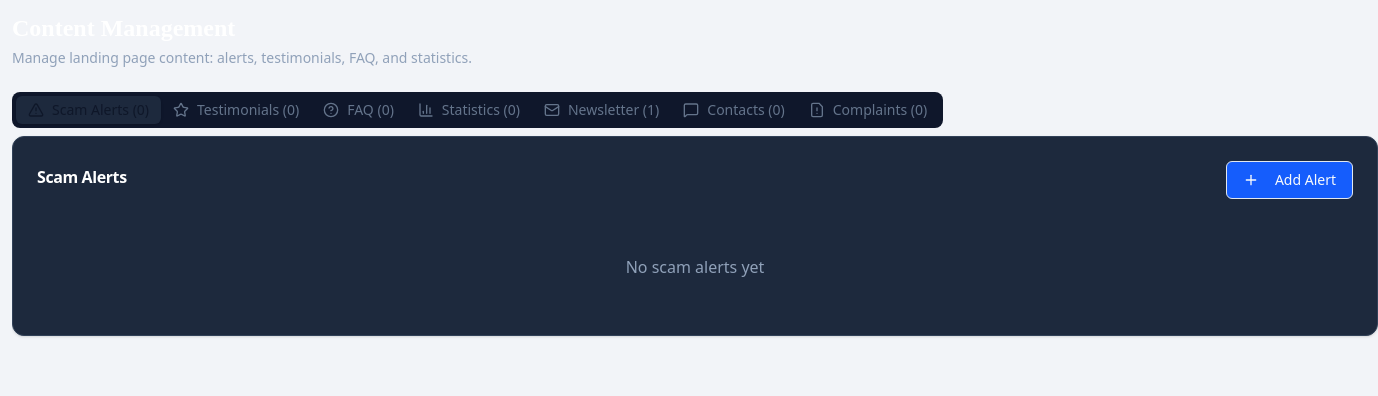
Scenario: ContentManagement — Export CSV button › button is visible when subscribers exist
The image size is (1378, 396).
Click the tab with test id "content-tab-newsletter": (602, 110) [532,96,671,124]
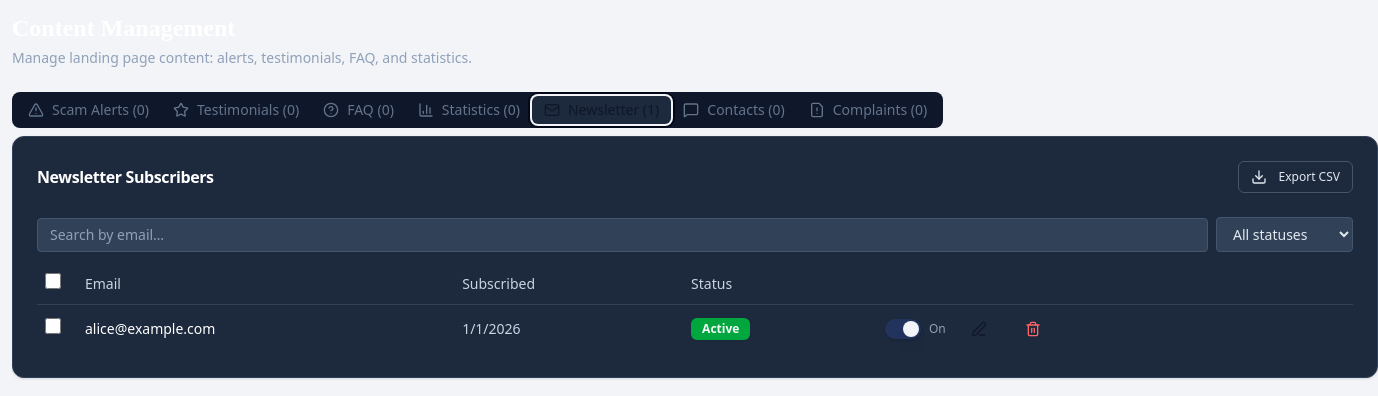
Expected: the button with test id "button-export-newsletter-csv" is shown, [1238,161,1353,193]
